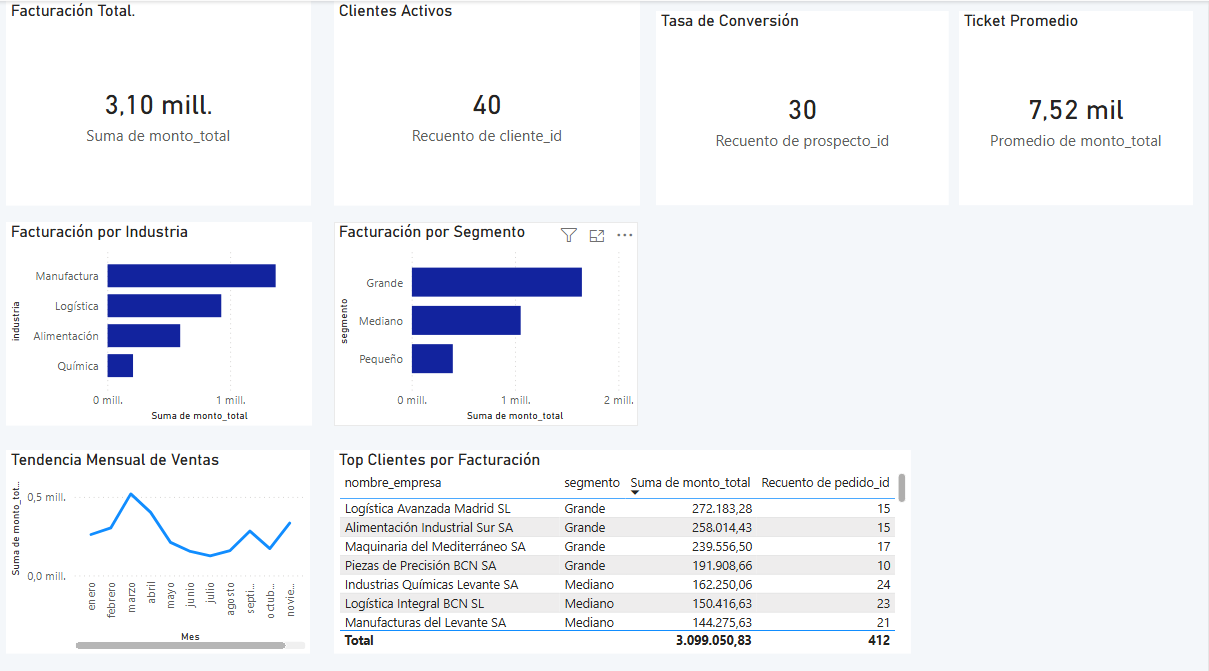

What the dashboard file says about the page in this screenshot:
{"tool":"powerbi","page":{"name":"Página 1","canvas":[1280,720],"ordinal":0},"visuals":[{"type":"card","title":"Facturación Total.","fields":{"Values":["Sum(pedidos.monto_total)"]},"box":[10.7,0,321.5,215.9],"z":0},{"type":"card","title":"Clientes Activos","fields":{"Values":["CountNonNull(clientes.cliente_id)"]},"box":[356.7,0,323.1,215.9],"z":1000},{"type":"card","title":"Ticket Promedio","fields":{"Values":["Avg(pedidos.monto_total)"]},"box":[1016.7,10.7,246.5,205.2],"z":2000},{"type":"card","title":"Tasa de Conversión","fields":{"Values":["CountNonNull(prospectos.prospecto_id)"]},"box":[696.7,10.7,309.3,205.2],"z":3000},{"type":"barChart","title":"Facturación por Segmento","fields":{"Category":["clientes.segmento"],"Y":["Sum(pedidos.monto_total)"]},"box":[357,233.3,321.3,215.5],"z":4000},{"type":"barChart","title":"Facturación por Industria","fields":{"Category":["clientes.industria"],"Y":["Sum(pedidos.monto_total)"]},"box":[10.2,233.3,322.5,215.5],"z":5000},{"type":"lineChart","title":"Tendencia Mensual de Ventas","fields":{"Y":["Sum(pedidos.monto_total)"],"Category":["pedidos.fecha_pedido.Variación.Jerarquía de fechas.Mes"]},"box":[10.2,474.3,321.3,215.5],"z":6000},{"type":"tableEx","title":"Top Clientes por Facturación","fields":{"Values":["clientes.nombre_empresa","clientes.segmento","Sum(pedidos.monto_total)","pedidos.pedido_id"]},"box":[357,474.3,609.4,215.5],"z":7000}]}

Visuals, with their boxes in screenshot pixels (x1, y1, x2, y2), scaled from the page's 1280x720 canvas onto the 1209x671 screenshot:
"Facturación Total." card: region(10, 0, 314, 201)
"Clientes Activos" card: region(337, 0, 642, 201)
"Ticket Promedio" card: region(960, 10, 1193, 201)
"Tasa de Conversión" card: region(658, 10, 950, 201)
"Facturación por Segmento" barChart: region(337, 217, 641, 418)
"Facturación por Industria" barChart: region(10, 217, 314, 418)
"Tendencia Mensual de Ventas" lineChart: region(10, 442, 313, 643)
"Top Clientes por Facturación" tableEx: region(337, 442, 913, 643)
